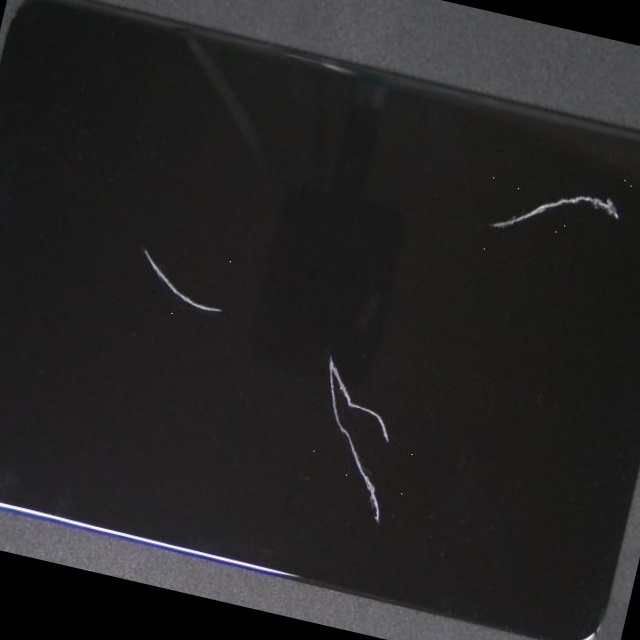scratch: (96, 99, 567, 596), (197, 40, 640, 379), (21, 48, 256, 409)
